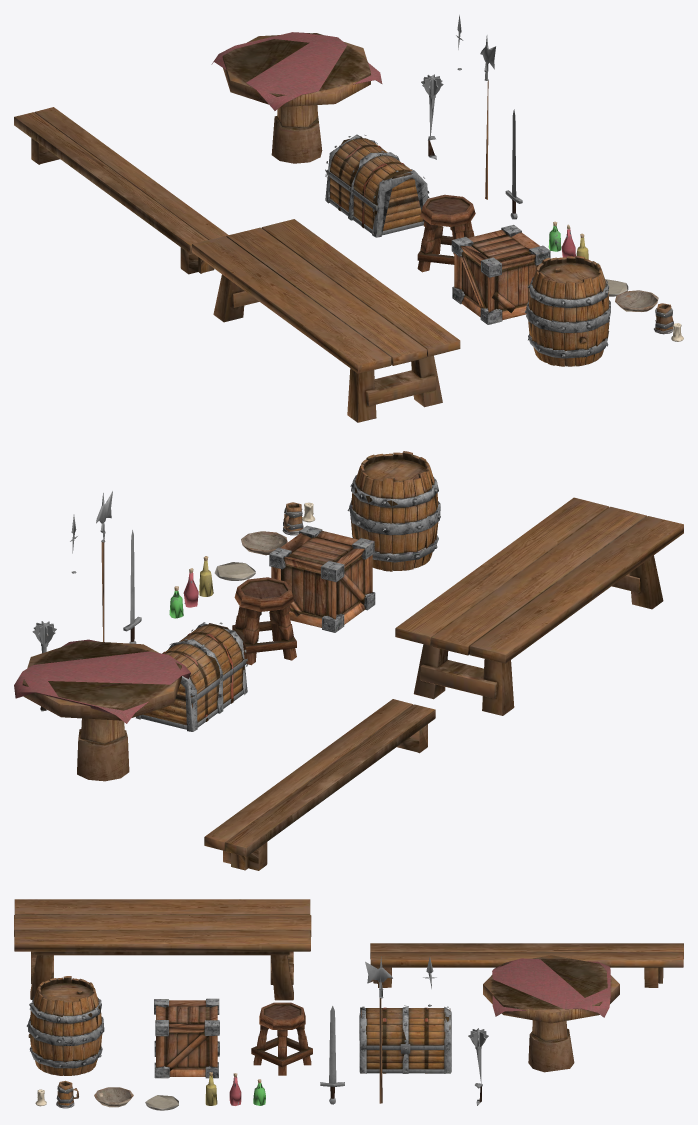
The model's file is props.glb.
The picture shows the model from 3 angles, top to bottom: view 1: azimuth 30°, elevation 25°; view 2: azimuth 150°, elevation 25°; view 3: azimuth 270°, elevation 25°; orthographic projection. The views are drawn at different scales.
Parts seen in each view (by area): view 1: Table02_mesh, Table01_mesh, Bench_mesh, Barrel_mesh, Chest_mesh, Crate_mesh, Stool_mesh, Bowl_mesh, Mace_mesh; view 2: Table02_mesh, Table01_mesh, Bench_mesh, Barrel_mesh, Crate_mesh, Chest_mesh, Stool_mesh, Bowl_mesh, Halberd_mesh; view 3: Table02_mesh, Table01_mesh, Bench_mesh, Barrel_mesh, Chest_mesh, Crate_mesh, Stool_mesh, Halberd_mesh, Sword_mesh, Bowl_mesh, Mace_mesh, Mug_mesh (+1 smaller).
Part boxes in pixels (<box>): Table02_mesh: <box>192,219,460,422</box>; Table01_mesh: <box>211,32,382,163</box>; Bench_mesh: <box>14,107,228,274</box>; Barrel_mesh: <box>524,255,610,366</box>; Chest_mesh: <box>325,134,429,237</box>; Crate_mesh: <box>451,224,550,324</box>; Stool_mesh: <box>417,194,475,272</box>; Bowl_mesh: <box>615,290,658,311</box>; Mace_mesh: <box>421,74,443,159</box>; Table02_mesh: <box>395,497,683,715</box>; Table01_mesh: <box>14,639,190,781</box>; Bench_mesh: <box>204,699,435,870</box>; Barrel_mesh: <box>347,451,440,571</box>; Crate_mesh: <box>269,525,375,632</box>; Chest_mesh: <box>136,622,247,731</box>; Stool_mesh: <box>232,577,296,665</box>; Bowl_mesh: <box>241,531,287,555</box>; Halberd_mesh: <box>96,491,112,641</box>; Table02_mesh: <box>14,899,311,1000</box>; Table01_mesh: <box>483,955,619,1072</box>; Bench_mesh: <box>370,943,683,987</box>; Barrel_mesh: <box>26,976,104,1075</box>; Chest_mesh: <box>359,1005,451,1073</box>; Crate_mesh: <box>154,998,219,1078</box>; Stool_mesh: <box>251,1002,312,1075</box>; Halberd_mesh: <box>365,956,392,1103</box>; Sword_mesh: <box>320,1006,344,1104</box>; Bowl_mesh: <box>94,1087,133,1107</box>; Mace_mesh: <box>468,1028,488,1105</box>; Mug_mesh: <box>56,1080,78,1108</box>.
Bounding box in the file's own units: 0.1496 × 0.0682 × 0.2757.
Materials: 9 (9 with a texture image).
